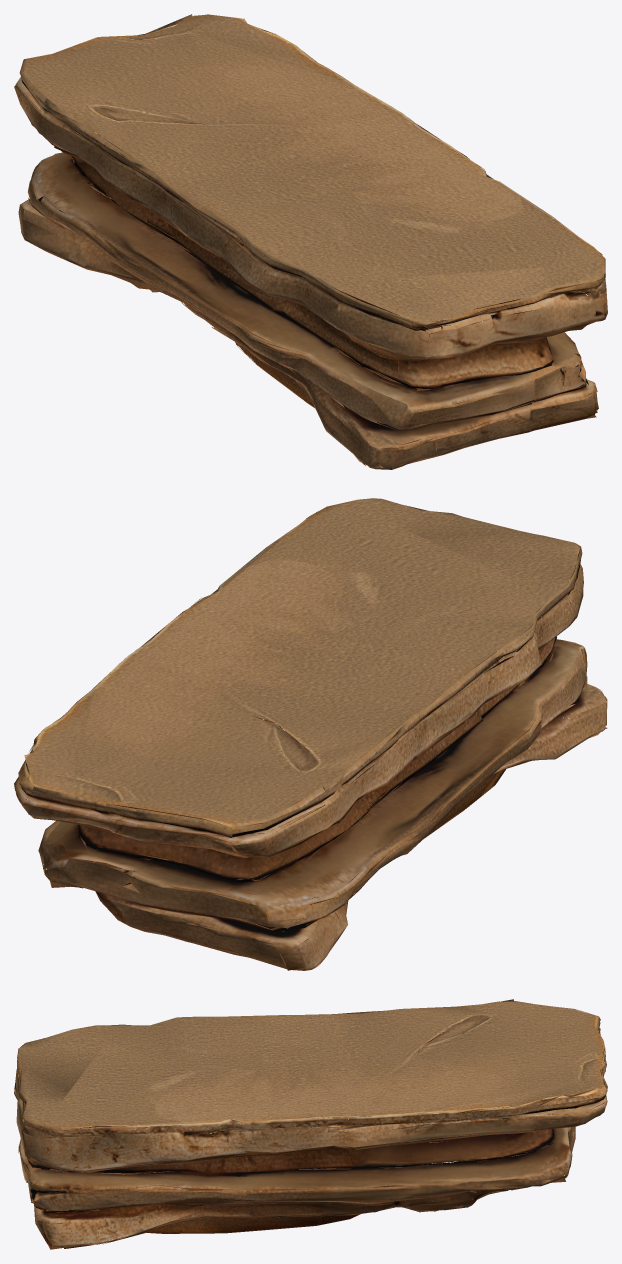
The model's file is desert_ledge_a_single.glb.
The picture shows the model from 3 angles, top to bottom: view 1: azimuth 30°, elevation 25°; view 2: azimuth 150°, elevation 25°; view 3: azimuth 270°, elevation 25°; orthographic projection. The views are drawn at different scales.
Parts seen in each view (by area): view 1: desert_ledge_a_single; view 2: desert_ledge_a_single; view 3: desert_ledge_a_single.
Part boxes in pixels (x1=…): desert_ledge_a_single: x1=14, y1=14, x2=607, y2=469; desert_ledge_a_single: x1=14, y1=498, x2=607, y2=970; desert_ledge_a_single: x1=14, y1=999, x2=607, y2=1249.
Size of the model in its own units: 1.81 by 1.07 by 3.83.
Materials: 1 (1 with a texture image).
